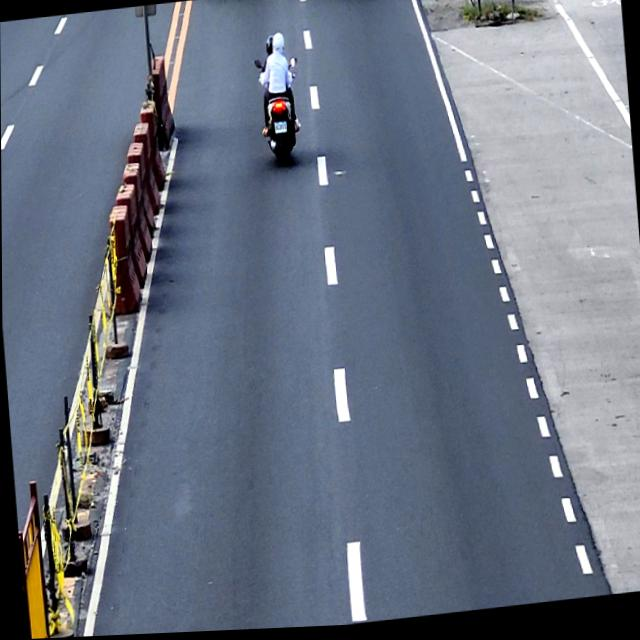License-Plate: (273, 123, 287, 136)
Motorcycle: (252, 54, 305, 170)
